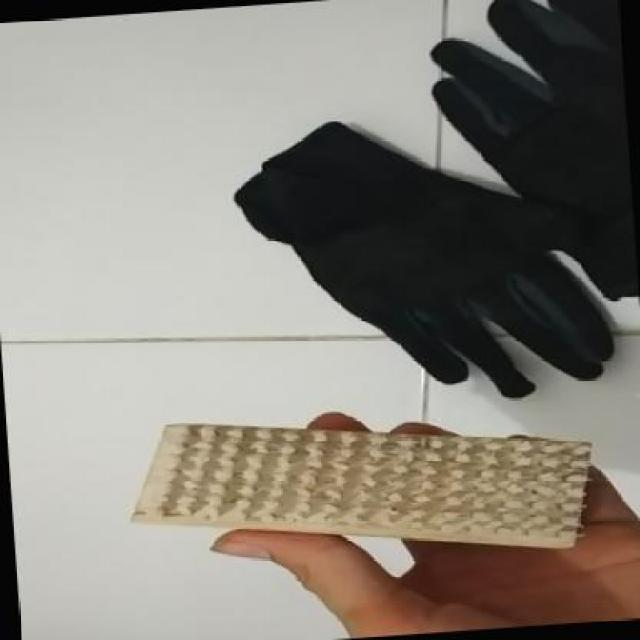Gloves: (208, 0, 640, 397), (219, 114, 613, 398), (428, 0, 640, 305)
